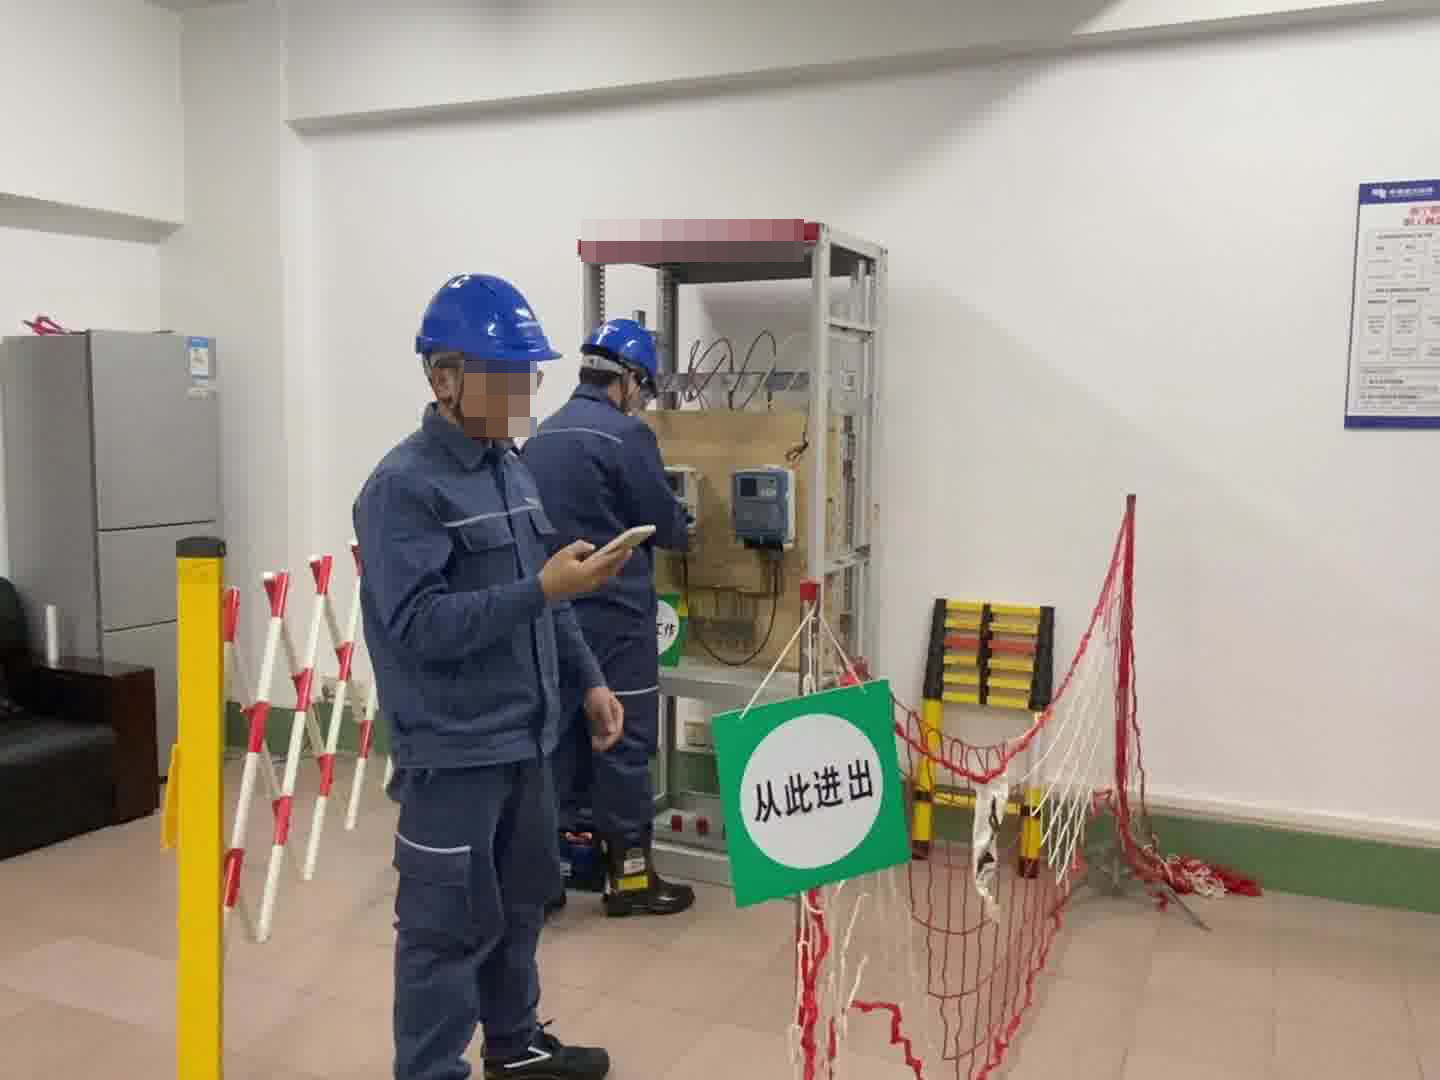downsuit: (388, 770, 566, 1078), (568, 617, 666, 833)
halt: (412, 272, 556, 435), (579, 318, 665, 415)
hand: (539, 535, 632, 604), (584, 680, 624, 756)
inear: (424, 347, 470, 417)
intosign: (708, 672, 921, 915)
person: (349, 266, 654, 1080), (523, 311, 695, 923)
shoe: (599, 824, 696, 917)
upsuit: (351, 421, 586, 769), (519, 388, 689, 614)
worksign: (656, 592, 685, 665)
